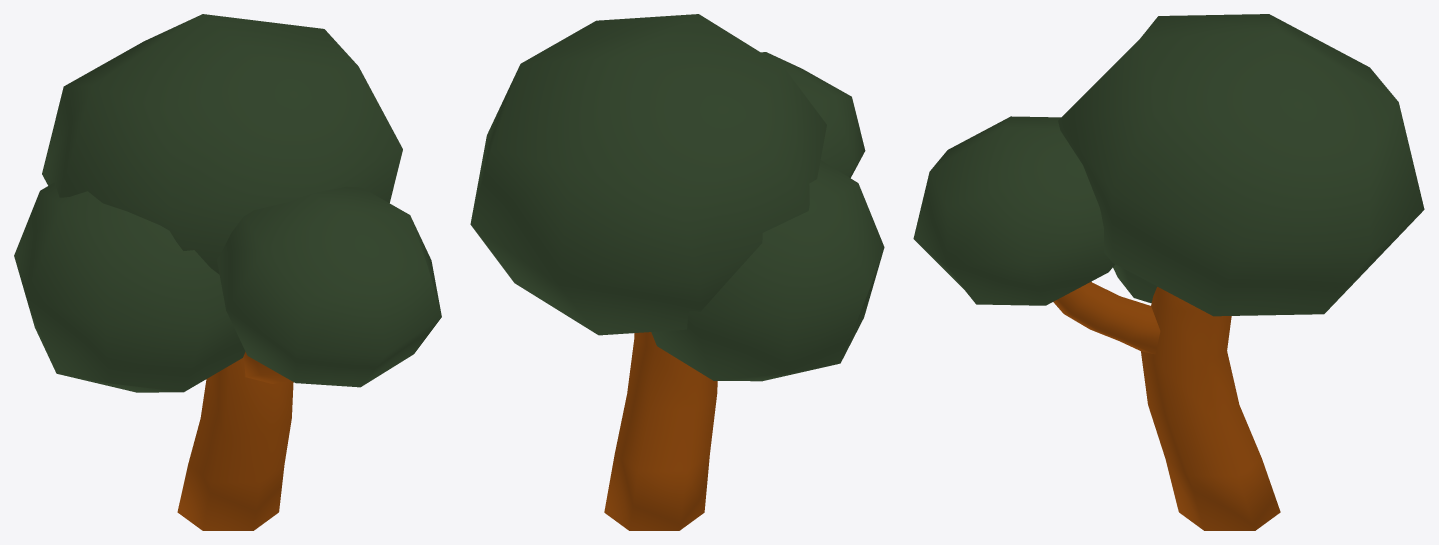
The model's file is env_tree2.glb.
3 views of the same model, side by side, from view 1: azimuth 30°, elevation 25°; view 2: azimuth 150°, elevation 25°; view 3: azimuth 270°, elevation 25° (orthographic).
Parts seen in each view (by area): view 1: tree2; view 2: tree2; view 3: tree2.
Boxes of the visible parts, x1,y1,x2,y2 form: tree2: [14, 14, 441, 530]; tree2: [470, 14, 884, 530]; tree2: [913, 14, 1424, 530].
Size of the model in its own units: 4.08 by 5 by 4.82.
1 material, 1 textured.
